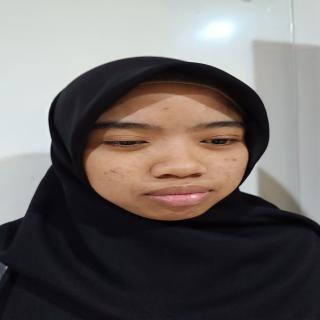Sedih: (85, 74, 258, 226)
